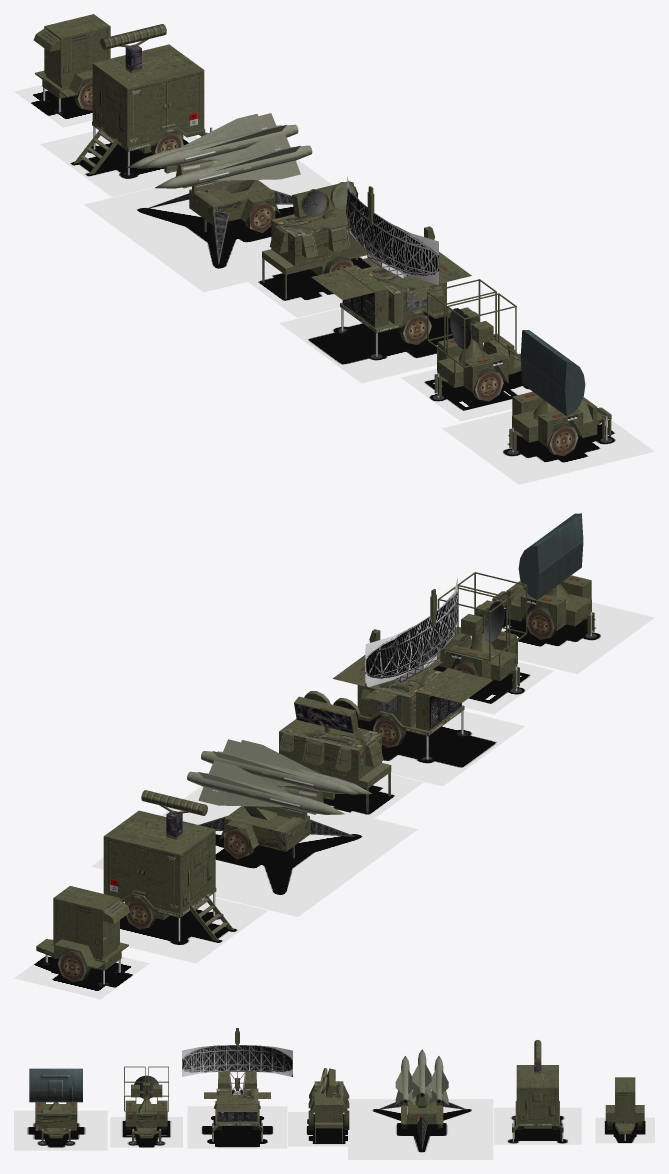
Rendered from all_in_one.obj.
3 views of the same model, one above another, from view 1: azimuth 30°, elevation 25°; view 2: azimuth 150°, elevation 25°; view 3: azimuth 270°, elevation 25° (orthographic). The views are drawn at different scales.
Visible parts, largest first — view 1: shadow, hawk_KP_main, HAWK_RLS2_main, Hawk_RLS_4_shad, Hawk_RLS_2_shad1, polySurface101, HAWK_RLS_main, polySurface8, HAWK_RLS2_ANT_big, shad1, Hawk_RLS_4_main, rocket2 (+12 smaller); view 2: shadow, hawk_KP_main, HAWK_RLS2_main, polySurface8, Hawk_RLS_2_shad1, HAWK_RLS_main, Hawk_RLS_4_shad, shad1, HAWK_RLS2_ANT_big, polySurface101, rocket3, Hawk_RLS_4_main (+11 smaller); view 3: shadow, Hawk_RLS_2_shad1, HAWK_RLS2_ANT_big, hawk_KP_main, Hawk_RLS_4_shad, shad1, HAWK_RLS2_main, ant, polySurface101, HAWK_RLS_main, polySurface8, Hawk_RLS_3_shad (+12 smaller).
Part boxes in pixels (x1,y1,x2,y2): shadow: [84, 160, 332, 292]; hawk_KP_main: [73, 44, 212, 175]; HAWK_RLS2_main: [311, 252, 471, 356]; Hawk_RLS_4_shad: [442, 411, 654, 484]; Hawk_RLS_2_shad1: [279, 308, 483, 383]; polySurface101: [427, 279, 521, 401]; HAWK_RLS_main: [262, 208, 367, 299]; polySurface8: [33, 14, 110, 112]; HAWK_RLS2_ANT_big: [346, 176, 439, 284]; shad1: [40, 130, 197, 197]; Hawk_RLS_4_main: [509, 391, 611, 456]; rocket2: [155, 134, 312, 188]; shadow: [91, 786, 417, 916]; hawk_KP_main: [103, 810, 233, 941]; HAWK_RLS2_main: [332, 655, 492, 759]; polySurface8: [36, 886, 130, 984]; Hawk_RLS_2_shad1: [357, 711, 524, 786]; HAWK_RLS_main: [279, 719, 391, 812]; Hawk_RLS_4_shad: [460, 602, 654, 674]; shad1: [120, 896, 267, 963]; HAWK_RLS2_ANT_big: [365, 578, 458, 687]; polySurface101: [437, 572, 527, 690]; rocket3: [187, 760, 344, 814]; Hawk_RLS_4_main: [492, 575, 594, 639]; shadow: [348, 1099, 493, 1159]; Hawk_RLS_2_shad1: [187, 1106, 287, 1148]; HAWK_RLS2_ANT_big: [182, 1045, 292, 1076]; hawk_KP_main: [512, 1065, 563, 1141]; Hawk_RLS_4_shad: [14, 1110, 107, 1150]; shad1: [494, 1107, 581, 1144]; HAWK_RLS2_main: [204, 1071, 270, 1141]; ant: [29, 1068, 82, 1102]; polySurface101: [124, 1066, 168, 1143]; HAWK_RLS_main: [308, 1081, 349, 1142]; polySurface8: [605, 1077, 644, 1140]; Hawk_RLS_3_shad: [110, 1117, 182, 1147].
Size of the model in its own units: 7.14 by 5.02 by 31.3.
24 materials, 24 textured.
